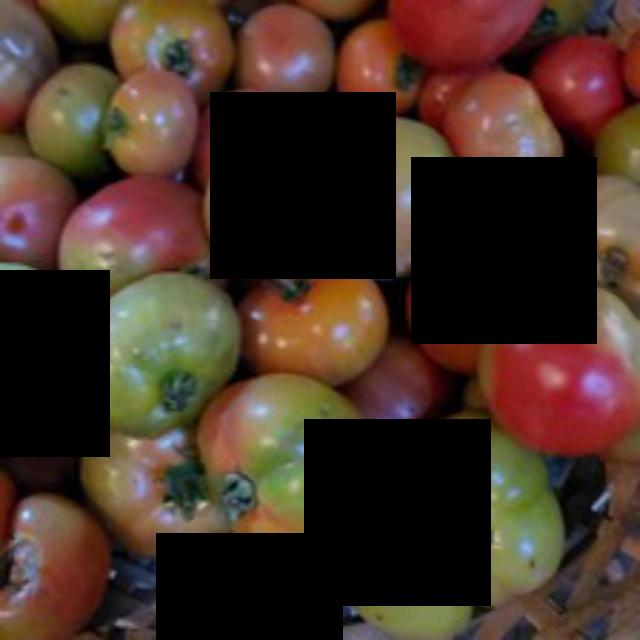tomato: (466, 274, 636, 463), (447, 72, 572, 206)
